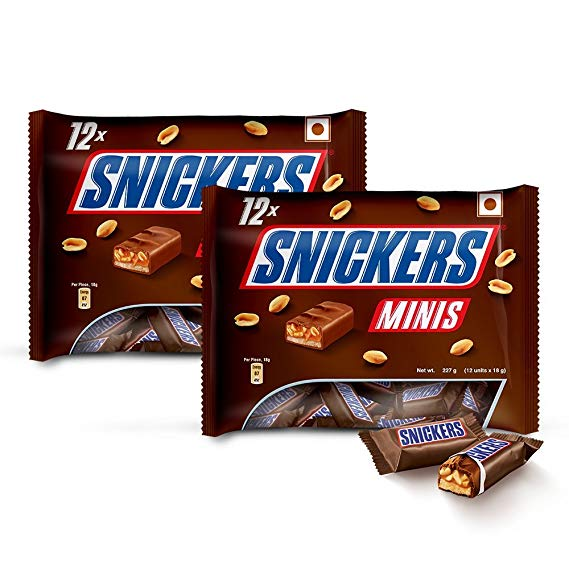snickers: (77, 153, 320, 209), (251, 227, 488, 282), (332, 380, 372, 421), (247, 383, 293, 417), (402, 420, 461, 446), (247, 390, 299, 417), (163, 305, 197, 346), (78, 307, 120, 339), (402, 380, 445, 399), (474, 439, 504, 464)
